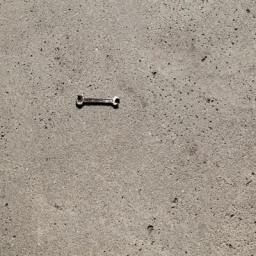FOD: (73, 92, 124, 114)
